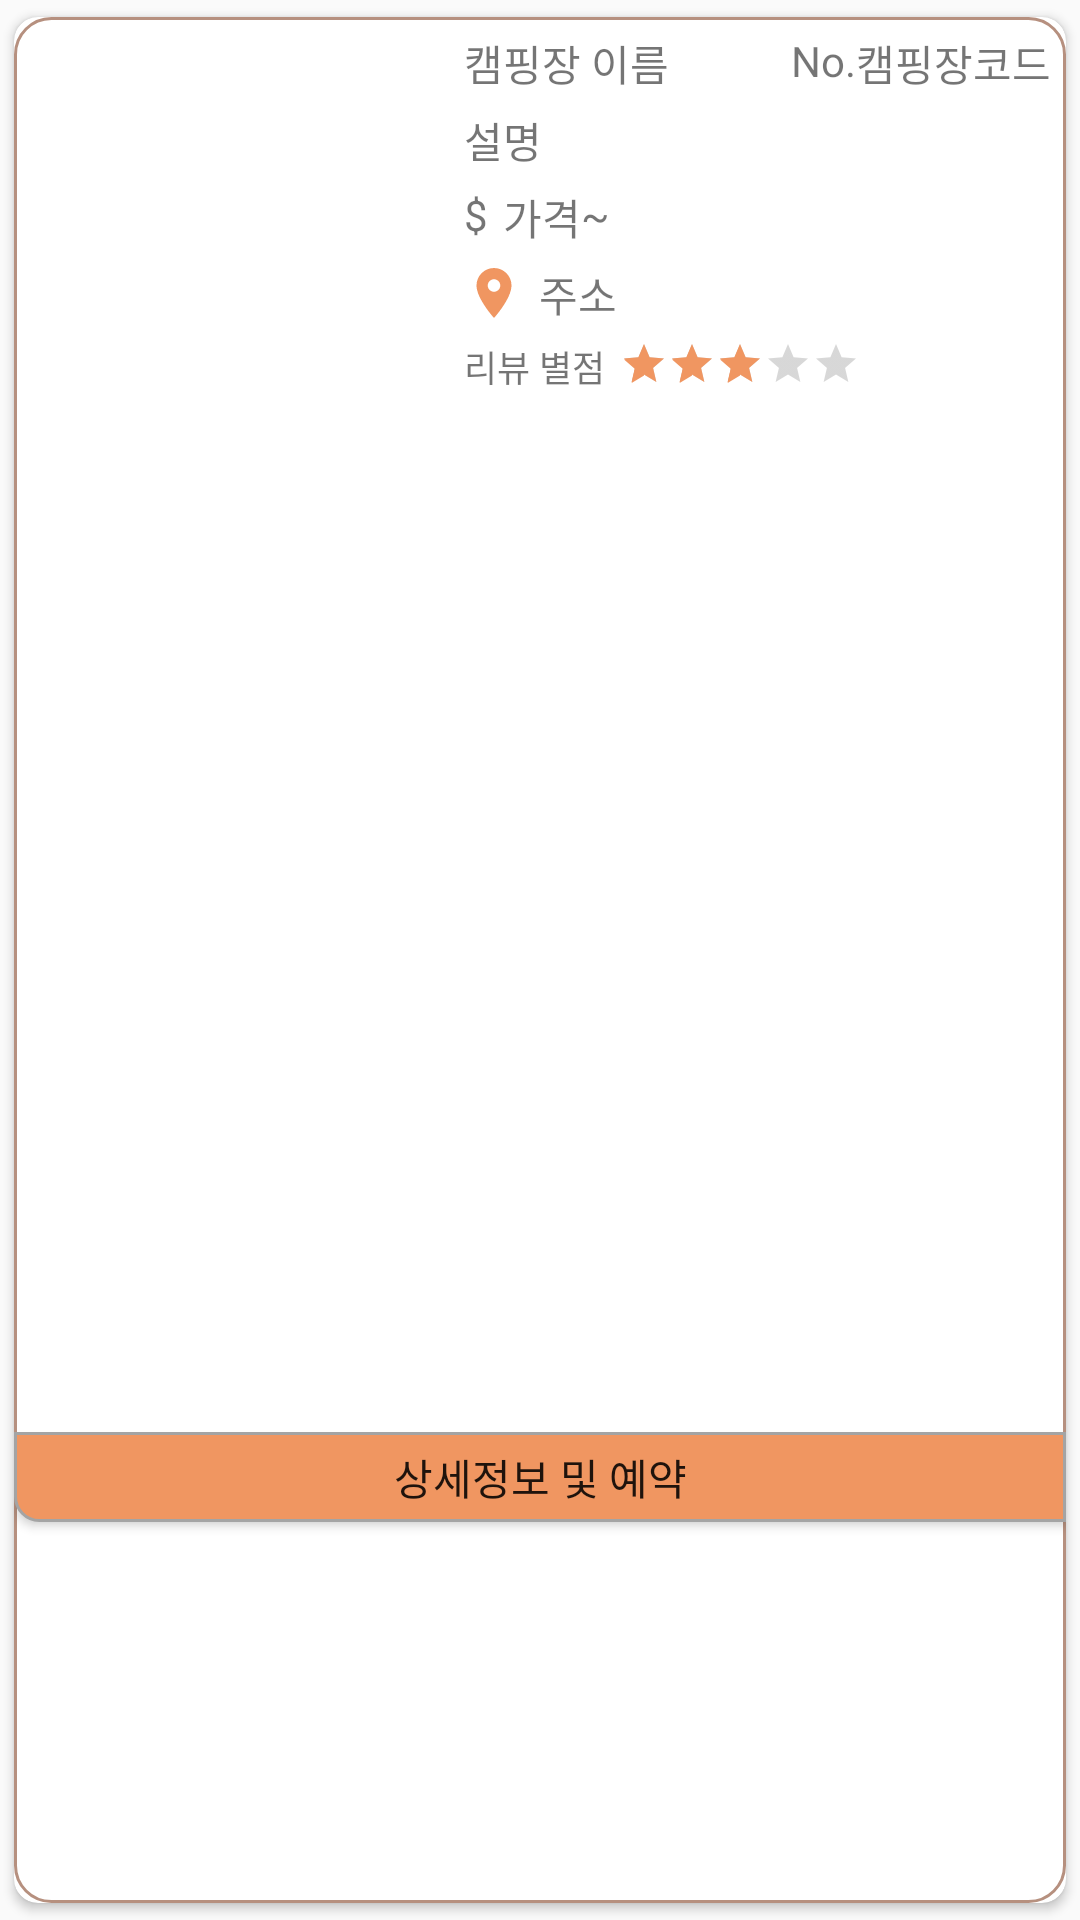

Icon click points for this 1080 × 1920 phone screenshot, format (x,y):
place: (494,293)
